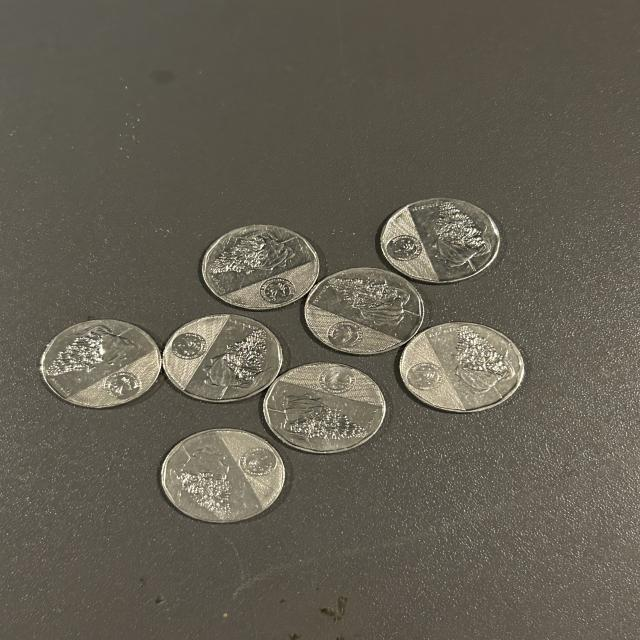10_New_Back: (412, 319, 520, 398), (188, 319, 286, 395), (315, 276, 419, 343), (212, 232, 311, 302), (275, 370, 379, 435), (174, 443, 275, 508), (55, 328, 148, 398), (392, 208, 481, 270)
